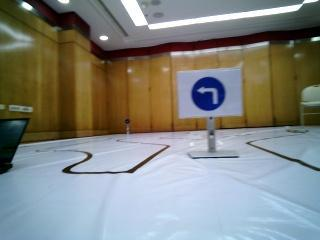left: (180, 72, 239, 118)
